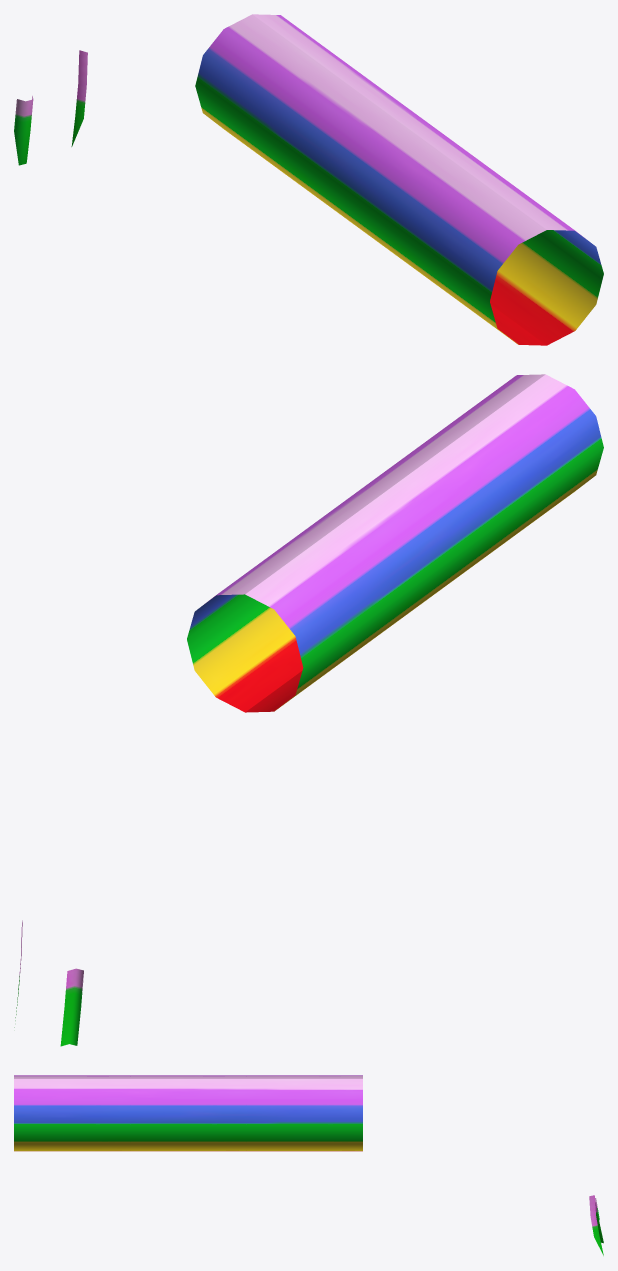
The model's file is cuerpo4.obj.
3 views of the same model, one above another, from view 1: azimuth 30°, elevation 25°; view 2: azimuth 150°, elevation 25°; view 3: azimuth 270°, elevation 25° (orthographic). The views are drawn at different scales.
Visible parts, largest first — view 1: cuerpo4; view 2: cuerpo4; view 3: cuerpo4.
Part boxes in pixels (left/top/right/bottom): cuerpo4: left=14, top=14, right=603, bottom=345; cuerpo4: left=14, top=374, right=603, bottom=1046; cuerpo4: left=14, top=1075, right=603, bottom=1255.
Bounding box in the file's own units: 0.176 × 0.425 × 1.33.
